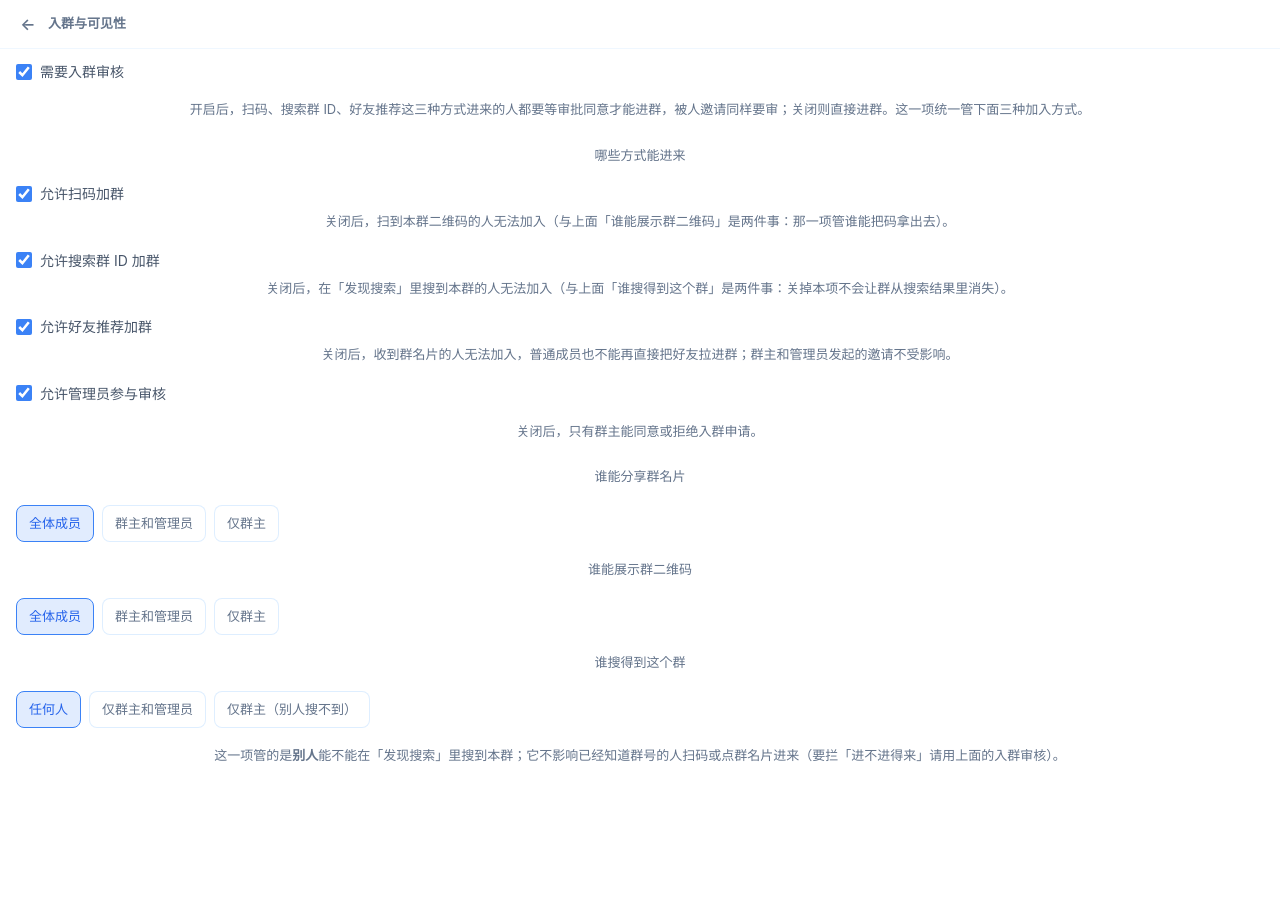
Test: JoinPolicyForm › 错误分档（四种互不相同） › 400（取值不在白名单） ⇒ 专属文案，且 UI 值不变
Expected: the checkbox labelled "需要入群审核" is shown, top-left (16, 64), bottom-right (32, 80)
Step 1. Click the 1st button "仅群主" → (246, 523), box top-left (214, 504), bottom-right (279, 542)
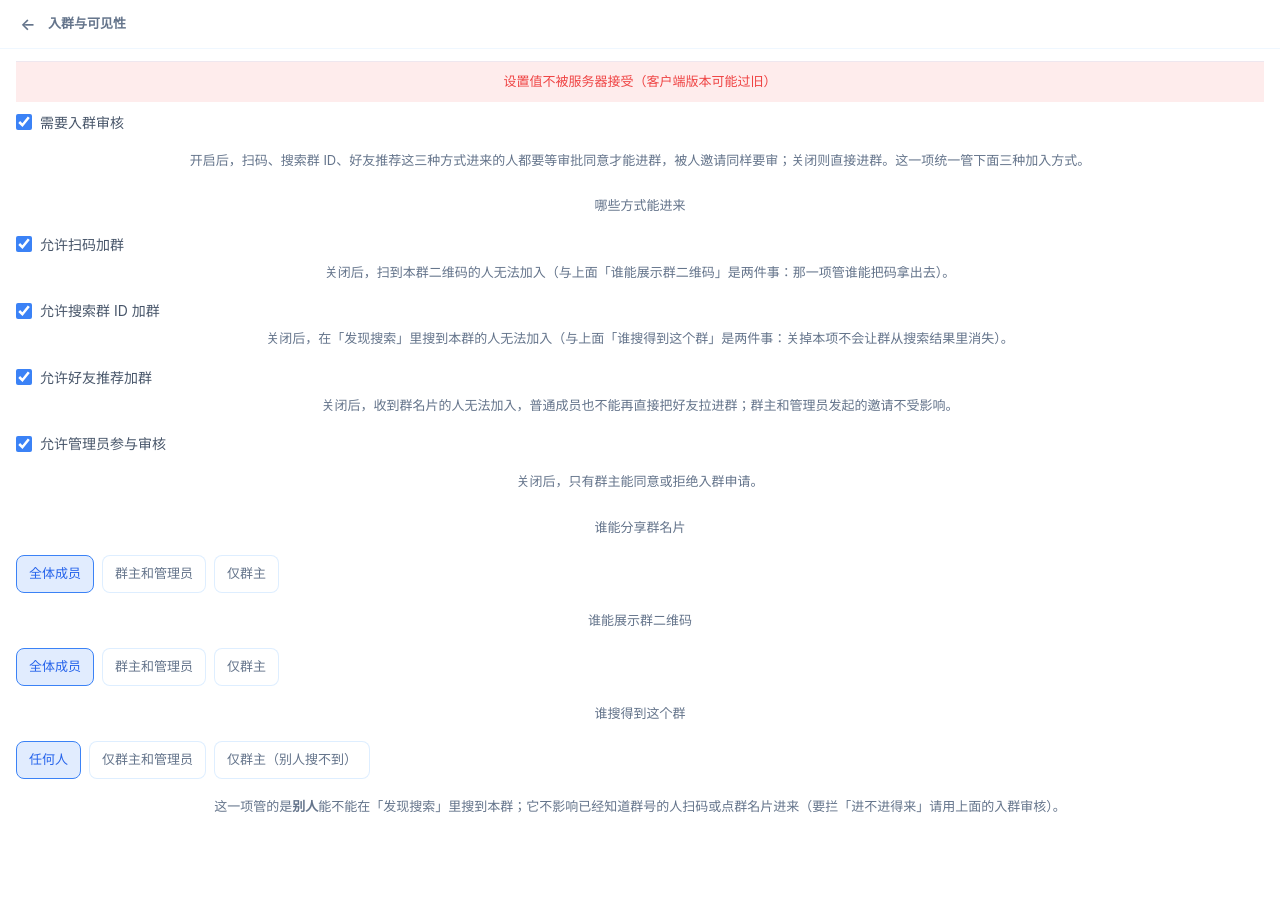
Expected: the 1st button "全体成员" is shown, top-left (16, 555), bottom-right (94, 592)
Expected: the text "设置值不被服务器接受（客户端版本可能过旧）" is shown, top-left (16, 61), bottom-right (1264, 102)
